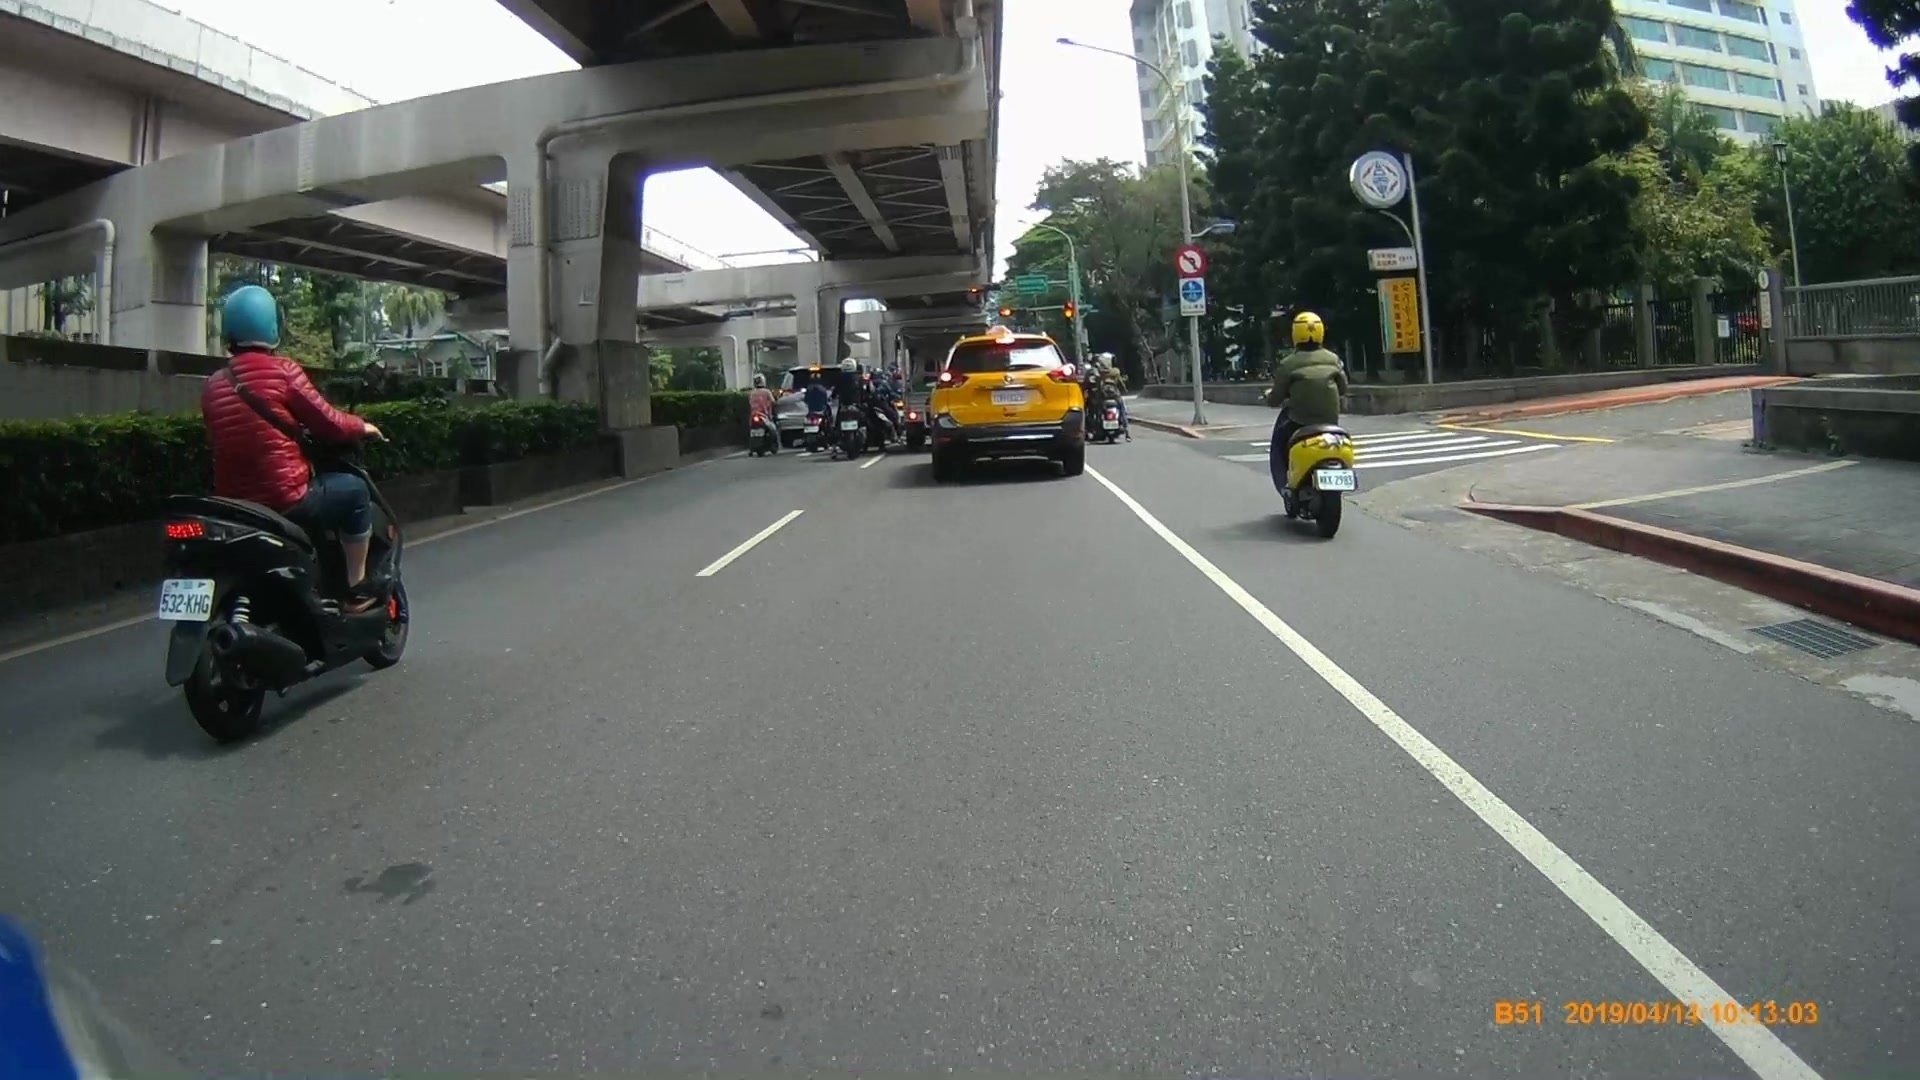License_plate: (157, 572, 216, 622), (1312, 463, 1357, 493), (990, 389, 1029, 408)
